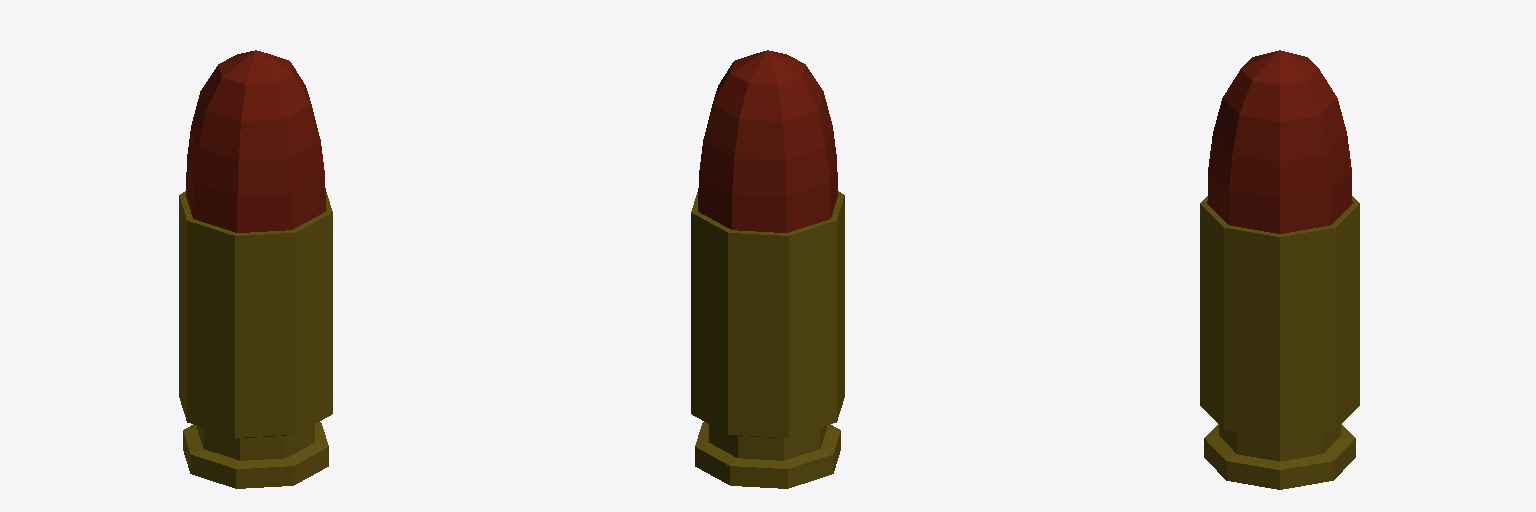
File: Bullet.obj
The picture shows the model from 3 angles: view 1: azimuth 30°, elevation 25°; view 2: azimuth 150°, elevation 25°; view 3: azimuth 270°, elevation 25°; orthographic projection.
Visible parts, largest first — view 1: bullet; view 2: bullet; view 3: bullet.
Part boxes in pixels (bbox=[...]): bullet: bbox=[179, 50, 332, 488]; bullet: bbox=[691, 50, 844, 488]; bullet: bbox=[1200, 50, 1359, 489].
Bounding box in the file's own units: 2 × 5.7 × 2.